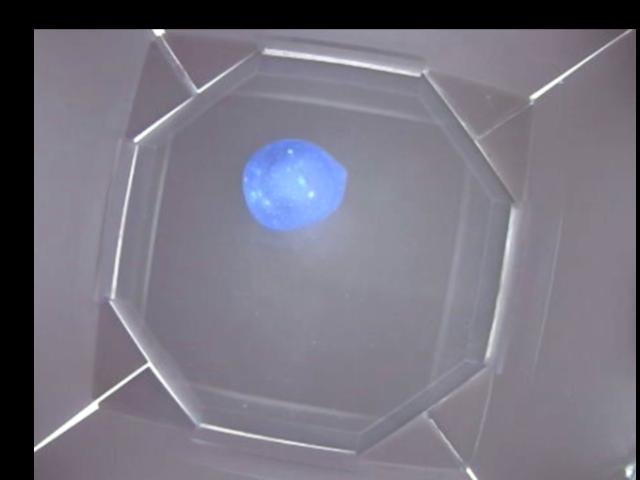Potato: (244, 140, 349, 229)
